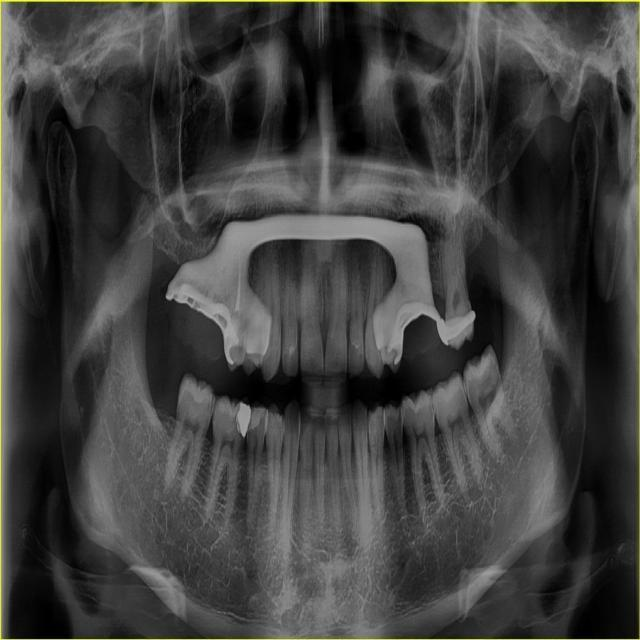NucleOSS Implant: (232, 402, 252, 438)
Straumann Implant: (242, 403, 267, 435)
